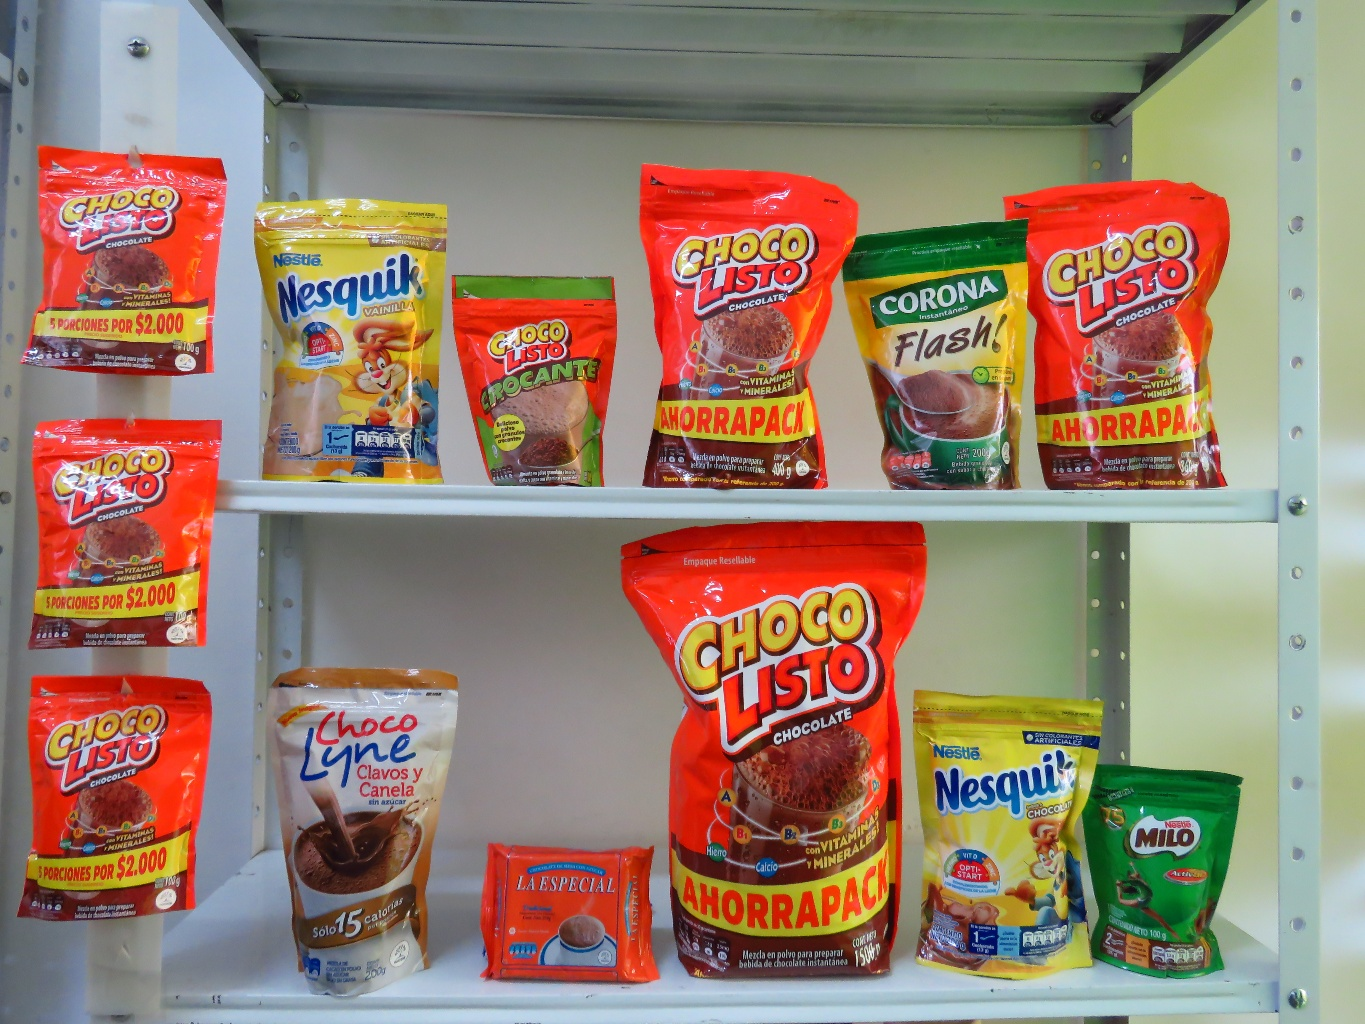COL0170102DYP10000: (441, 260, 611, 485)
COL0170103DYP1,500: (628, 515, 914, 986)
COL0170103DYP10000: (9, 664, 209, 921)
COL0170103DYP36000: (1005, 180, 1237, 486)
COL0170103DYP40000: (637, 150, 843, 492)
COL0170203DYP10000: (1086, 751, 1238, 978)
COL0170303DYP20000: (904, 675, 1104, 972)
COL0170306DYP20000: (247, 189, 444, 478)
